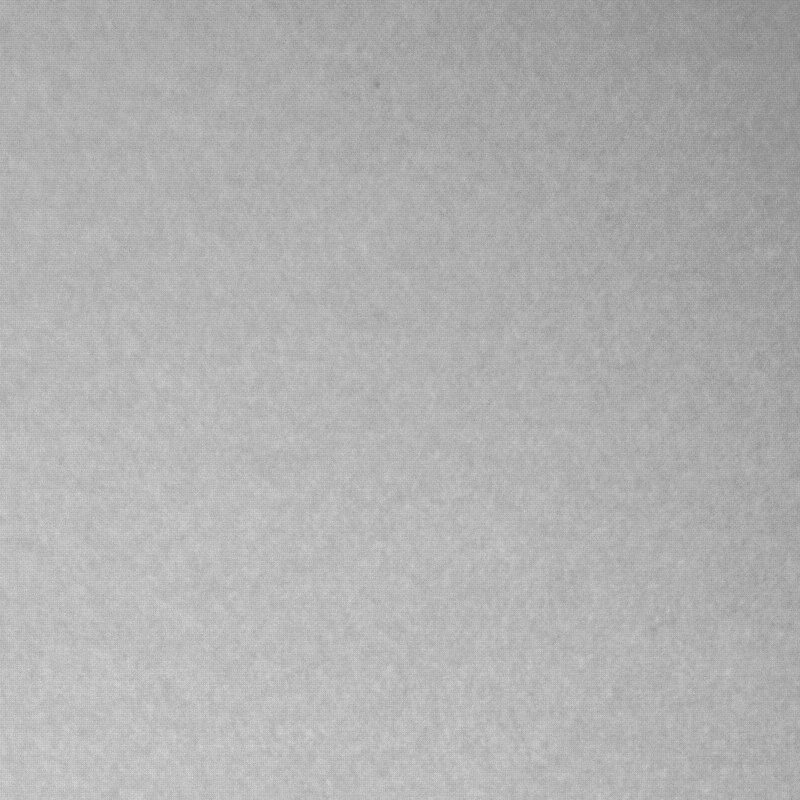defect: (371, 81, 384, 93)
